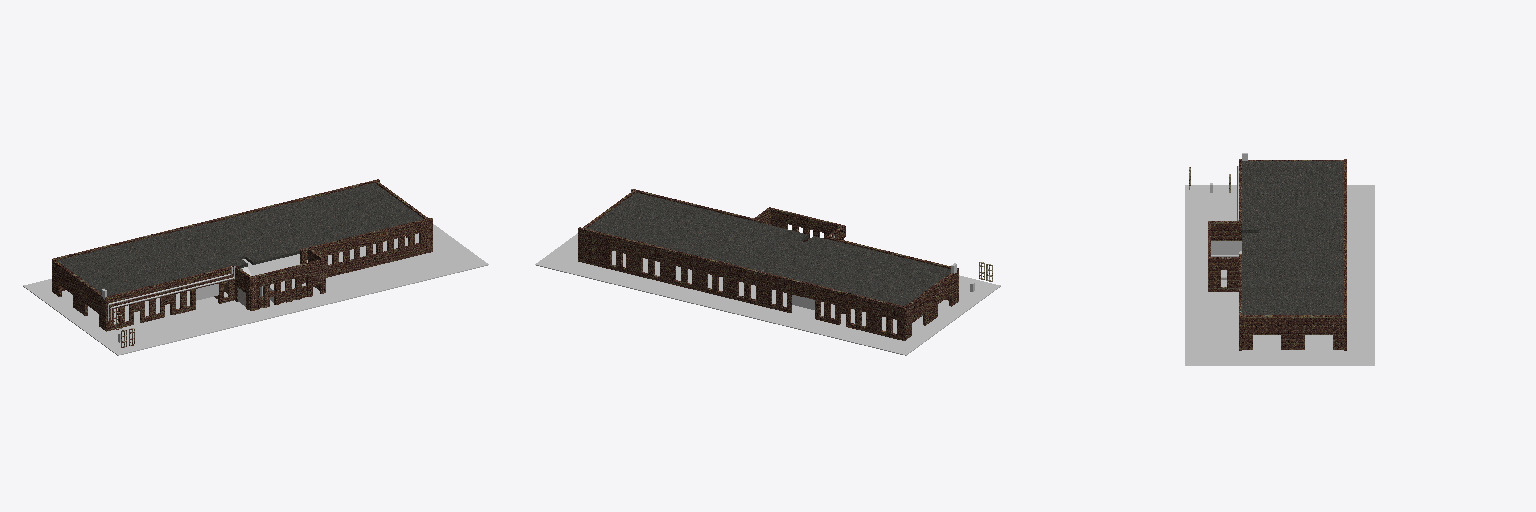
The picture shows the model from 3 angles: view 1: azimuth 30°, elevation 25°; view 2: azimuth 150°, elevation 25°; view 3: azimuth 270°, elevation 25°; orthographic projection.
Parts seen in each view (by area): view 1: entity0_brush0, entity1_brush17, entity1_brush1, entity0_brush27, entity1_brush20, entity1_brush18, entity1_brush21, entity1_brush0, entity0_brush92; view 2: entity0_brush0, entity1_brush17, entity1_brush1, entity1_brush18, entity1_brush9, entity1_brush15, entity1_brush0, entity0_brush92; view 3: entity0_brush0, entity1_brush17, entity1_brush1, entity1_brush14, entity1_brush19.
Part boxes in pixels (left/top/right/bottom): entity0_brush0: left=23, top=224, right=488, bottom=355; entity1_brush17: left=203, top=183, right=422, bottom=264; entity1_brush1: left=57, top=226, right=247, bottom=295; entity0_brush27: left=302, top=241, right=432, bottom=283; entity1_brush20: left=300, top=218, right=432, bottom=257; entity1_brush18: left=52, top=179, right=379, bottom=266; entity1_brush21: left=105, top=265, right=236, bottom=304; entity1_brush0: left=54, top=267, right=104, bottom=316; entity0_brush92: left=249, top=259, right=325, bottom=284; entity0_brush0: left=535, top=233, right=1000, bottom=355; entity1_brush17: left=587, top=193, right=808, bottom=270; entity1_brush1: left=765, top=236, right=950, bottom=305; entity1_brush18: left=578, top=227, right=905, bottom=314; entity1_brush9: left=578, top=235, right=905, bottom=321; entity1_brush15: left=578, top=258, right=791, bottom=312; entity1_brush0: left=906, top=277, right=956, bottom=327; entity0_brush92: left=769, top=207, right=845, bottom=233; entity0_brush0: left=1185, top=185, right=1374, bottom=365; entity1_brush17: left=1242, top=233, right=1343, bottom=314; entity1_brush1: left=1242, top=161, right=1343, bottom=232; entity1_brush14: left=1242, top=324, right=1343, bottom=334; entity1_brush19: left=1242, top=315, right=1343, bottom=323.
Bounding box in the file's own units: 4441 × 453 × 1968.
12 materials, 7 textured.